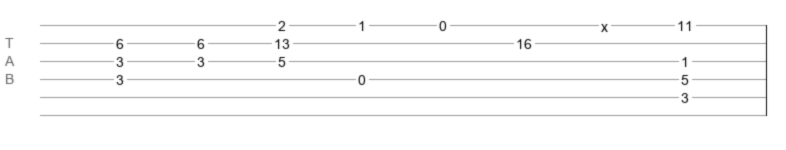0: (358, 72, 366, 82), (439, 18, 447, 28)
1: (358, 18, 366, 28), (681, 54, 689, 64)
11: (677, 18, 693, 28)
13: (274, 36, 290, 46)
16: (516, 36, 532, 46)
2: (278, 18, 286, 28)
3: (116, 72, 124, 82), (116, 54, 124, 64), (197, 54, 205, 64), (681, 90, 689, 100)
5: (278, 54, 286, 64), (681, 72, 689, 82)
6: (116, 36, 124, 46), (197, 36, 205, 46)
x: (601, 19, 608, 27)
